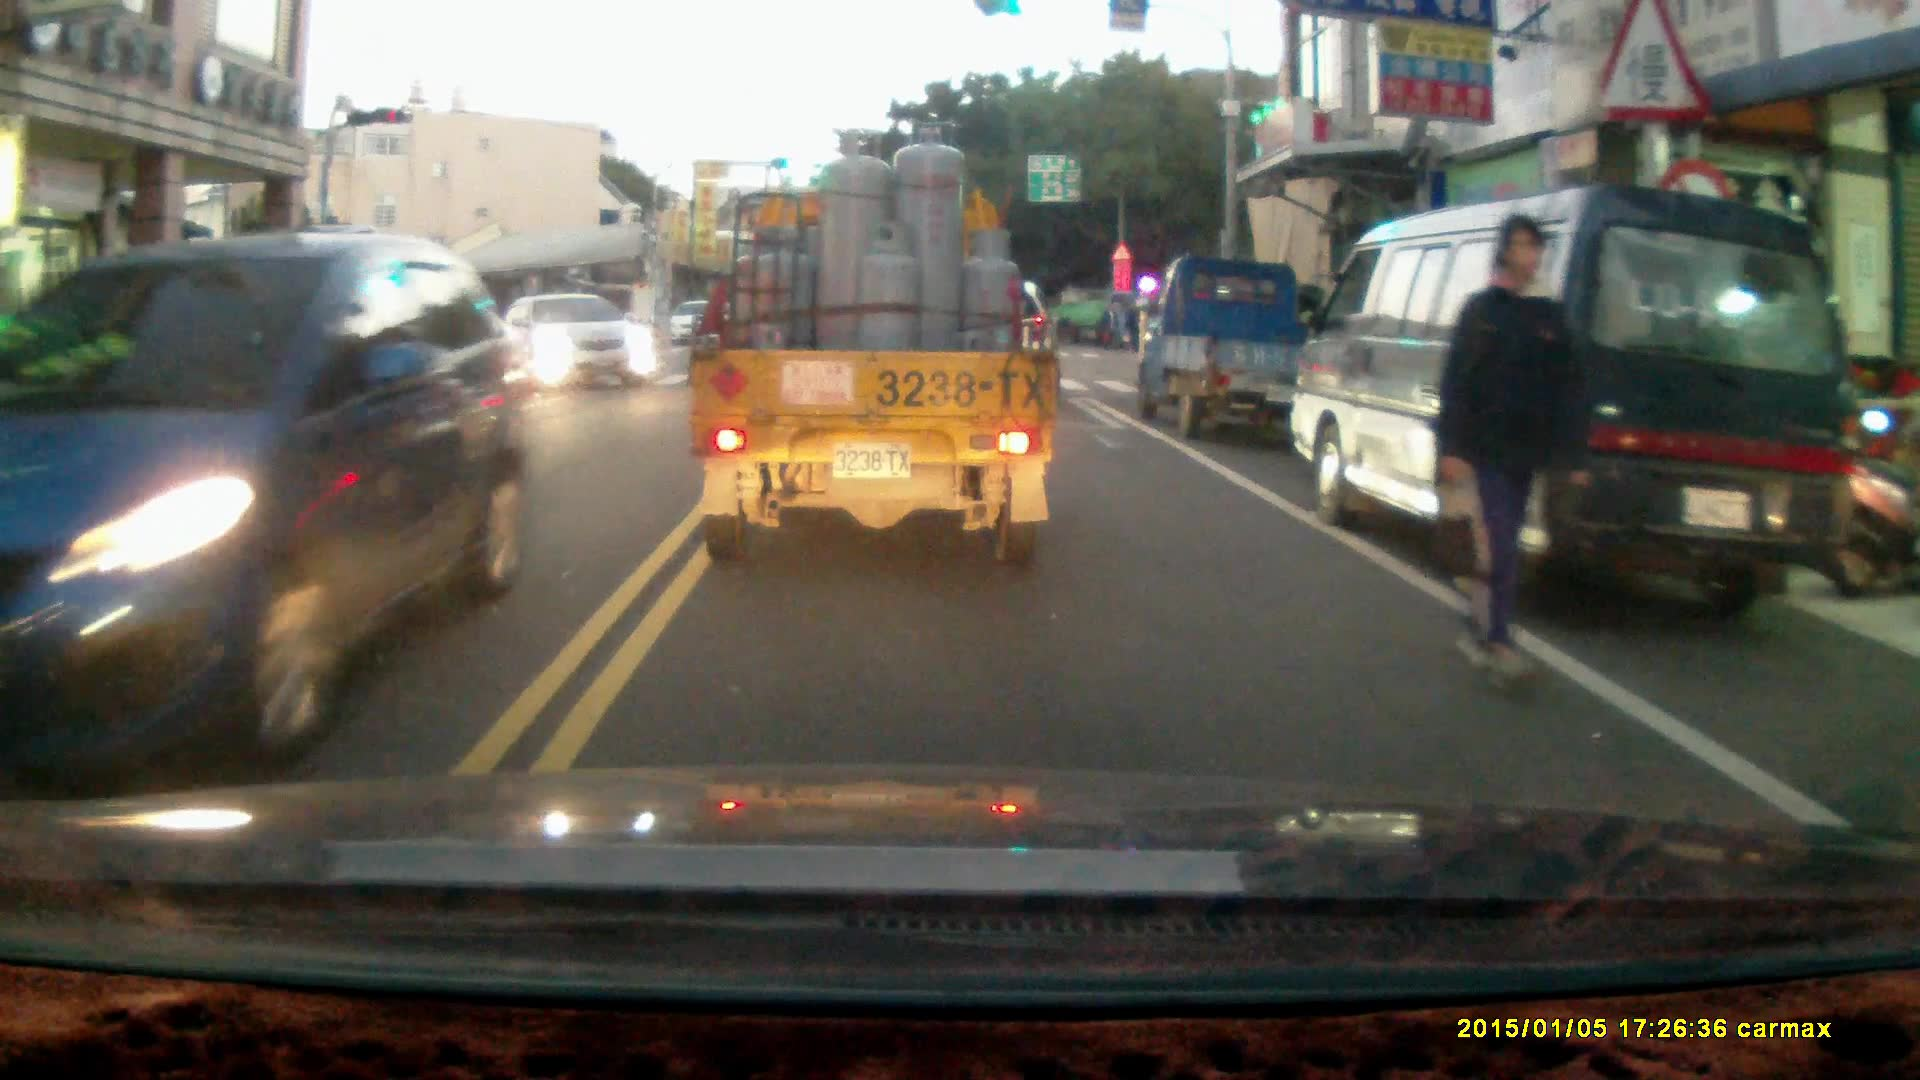pedestrian: (1432, 215, 1578, 689)
vehicle: (4, 231, 517, 794), (1292, 181, 1862, 622), (687, 123, 1057, 567), (252, 298, 517, 441), (1138, 251, 1319, 436), (496, 295, 653, 396)
